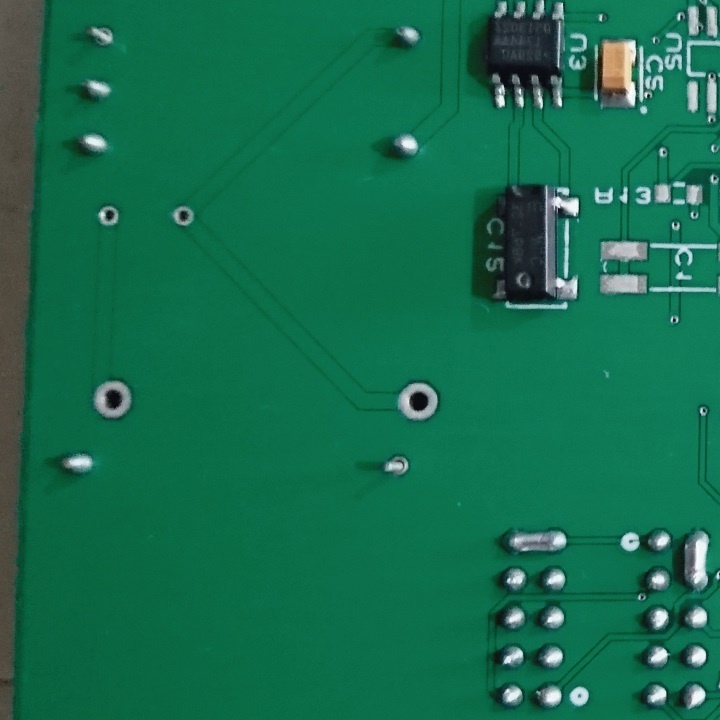F: (393, 377, 443, 425), (86, 377, 137, 422), (376, 449, 412, 482), (84, 18, 117, 49), (169, 203, 197, 229), (96, 202, 122, 229)
P: (496, 523, 572, 558), (679, 524, 713, 596)
